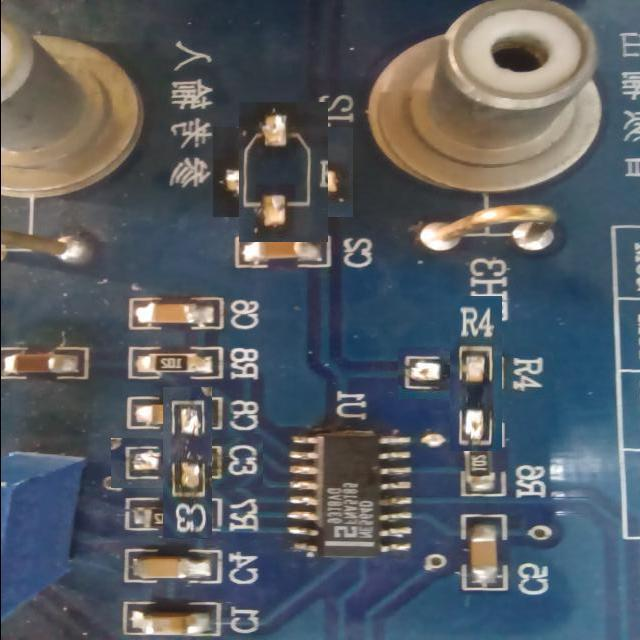miss_welding: (226, 114, 340, 230), (424, 321, 528, 425), (137, 412, 238, 514)
